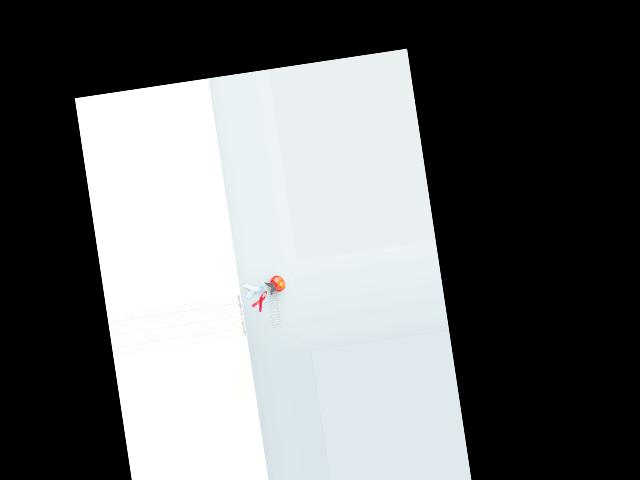tomato: (267, 274, 286, 293)
